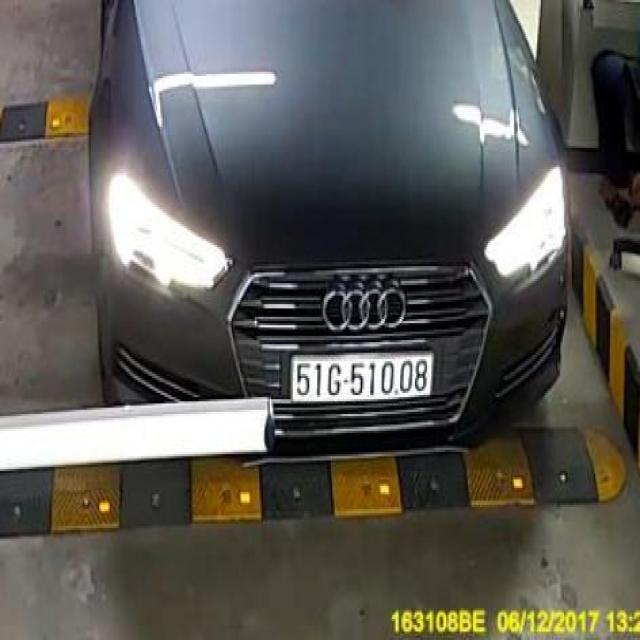License-Plates: (290, 350, 433, 401)
